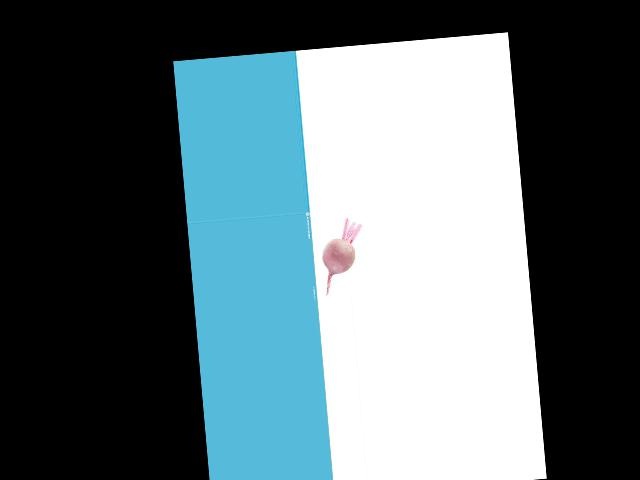beet: (319, 217, 367, 295)
